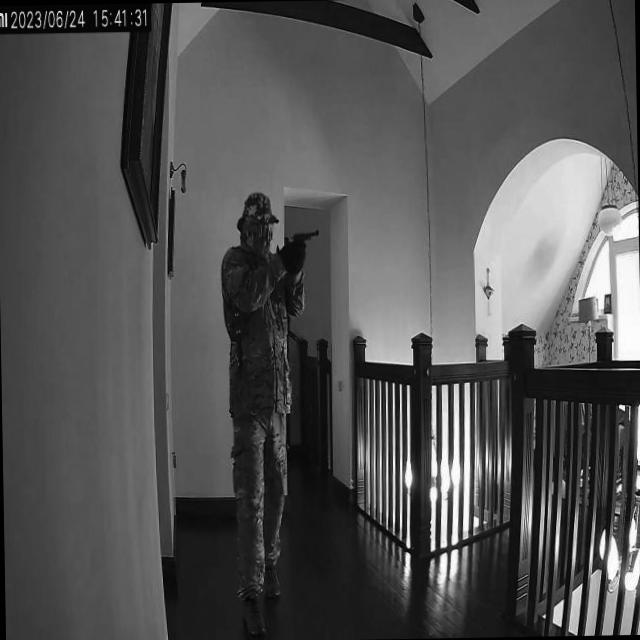gun: (287, 225, 320, 250)
person with a gun: (219, 188, 297, 634)
